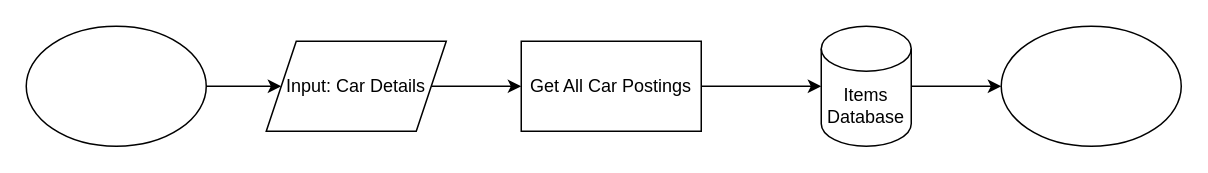
Some shapes in this 1208 by 173 pixel diagram are drawn without their labels. Here are the shapes that lost their labels. From the top down, the centre of each, then its label:
the point at 115,85: Start
the point at 1090,85: End
